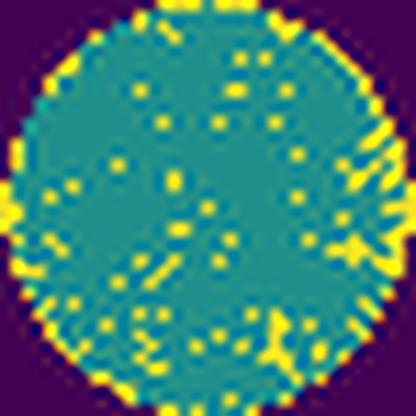Edge-Loc: (311, 35, 415, 276), (0, 184, 33, 238)
